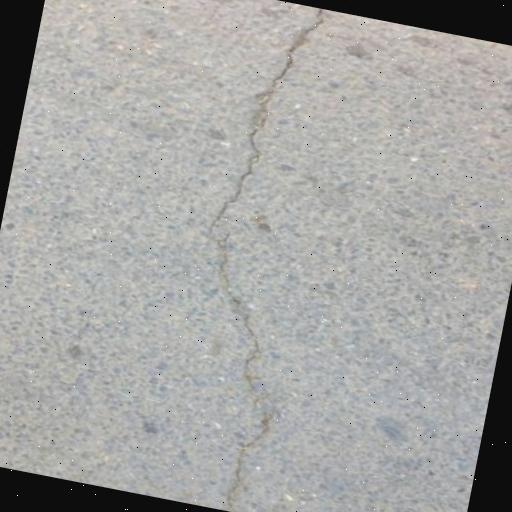spalling: (180, 10, 338, 509)
